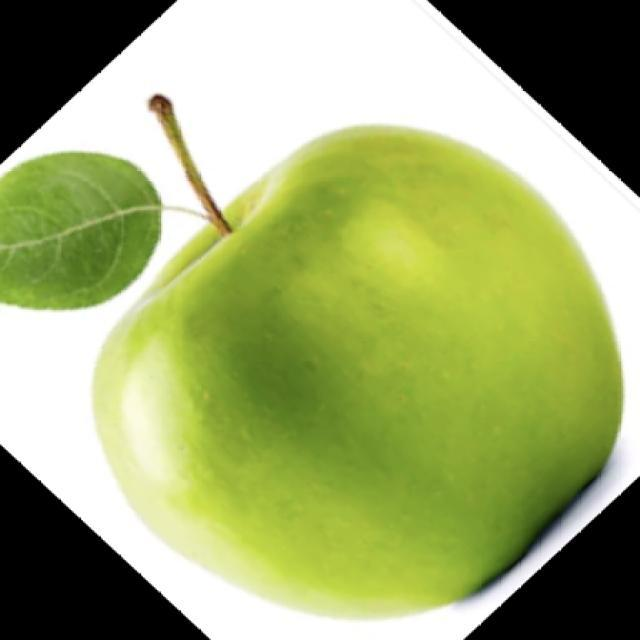Fresh Apple: (91, 112, 624, 624)
